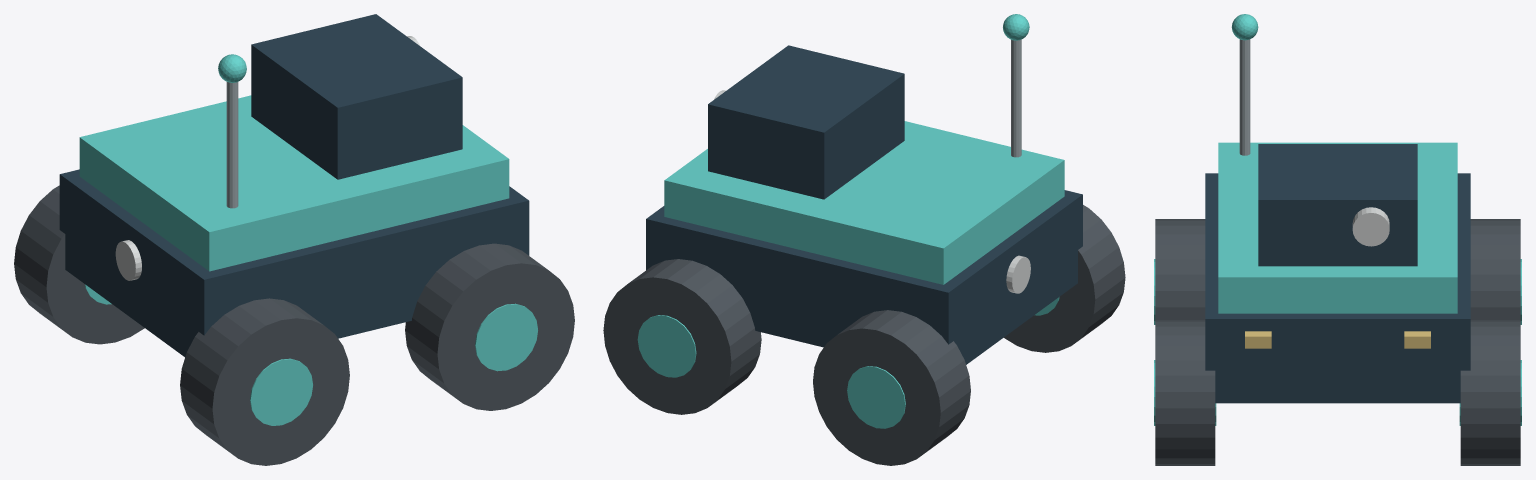
The model's file is scout.glb.
3 views of the same model, side by side, from view 1: azimuth 30°, elevation 25°; view 2: azimuth 150°, elevation 25°; view 3: azimuth 270°, elevation 25° (orthographic). The views are drawn at different scales.
Parts seen in each view (by area): view 1: part1, part0, part2, part15, part11, part13, part12, part16, part7, part4, part8; view 2: part1, part0, part2, part13, part9, part15, part14, part10, part7, part4, part8; view 3: part0, part1, part2, part9, part11, part13, part15, part7, part3, part8, part5, part6.
Part boxes in pixels (x1,y1,x2,y2): part1: (79, 95, 509, 271); part0: (59, 169, 529, 357); part2: (251, 14, 462, 179); part15: (180, 298, 349, 465); part11: (405, 243, 574, 410); part13: (14, 185, 144, 344); part12: (475, 303, 537, 371); part16: (250, 358, 312, 425); part7: (226, 82, 238, 208); part4: (115, 240, 141, 280); part8: (218, 54, 246, 82); part1: (664, 121, 1064, 284); part0: (646, 190, 1082, 364); part2: (708, 45, 904, 199); part13: (813, 310, 970, 465); part9: (603, 259, 761, 414); part15: (1004, 205, 1125, 352); part14: (847, 366, 905, 428); part10: (637, 315, 696, 377); part7: (1011, 39, 1021, 157); part4: (1006, 255, 1030, 293); part8: (1003, 14, 1029, 40); part0: (1205, 173, 1470, 403); part1: (1218, 142, 1457, 313); part2: (1258, 144, 1417, 266); part9: (1460, 320, 1520, 465); part11: (1155, 320, 1215, 465); part13: (1470, 219, 1520, 319); part15: (1155, 219, 1205, 319); part7: (1239, 39, 1250, 155); part3: (1352, 207, 1389, 246); part8: (1231, 14, 1258, 40); part5: (1404, 331, 1430, 348); part6: (1245, 331, 1271, 348).
Bounding box in the file's own units: 0.29 × 0.285 × 0.277.
